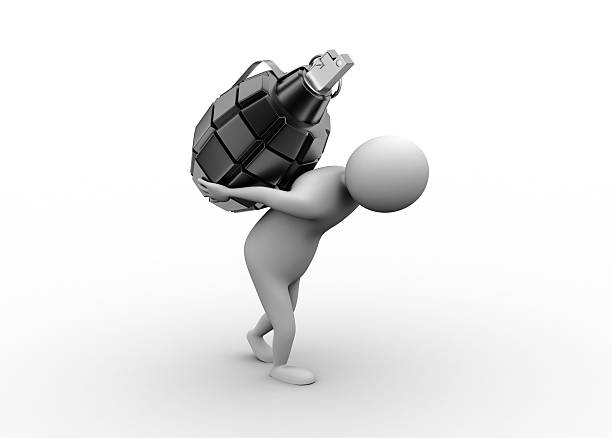e1: (185, 46, 355, 209)
